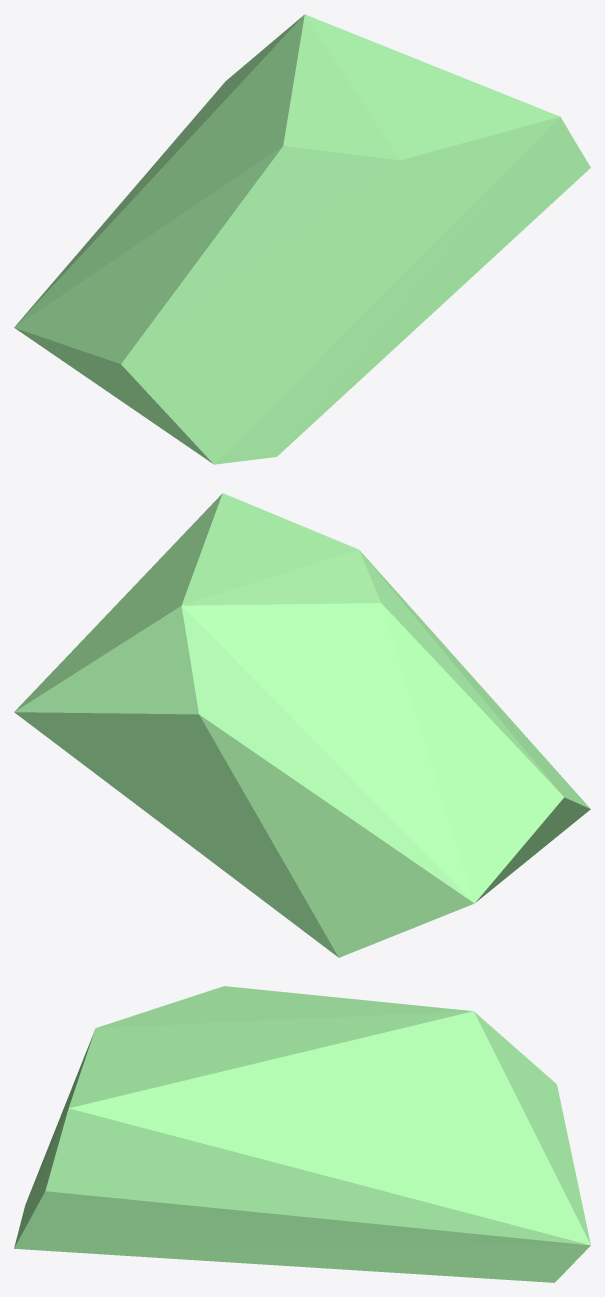
Rendered from dvkr_robot_L3_respondable_ECM_coll_6.dae.
3 renders of one model, top to bottom at view 1: azimuth 30°, elevation 25°; view 2: azimuth 150°, elevation 25°; view 3: azimuth 270°, elevation 25°, orthographic. The views are drawn at different scales.
Visible parts, largest first — view 1: Node_0000023514CD6E10; view 2: Node_0000023514CD6E10; view 3: Node_0000023514CD6E10.
Part boxes in pixels (x1,y1,x2,y2): Node_0000023514CD6E10: (14,14,590,464); Node_0000023514CD6E10: (14,493,590,957); Node_0000023514CD6E10: (14,986,590,1282).
Size of the model in its own units: 0.0354 by 0.0234 by 0.0306.
